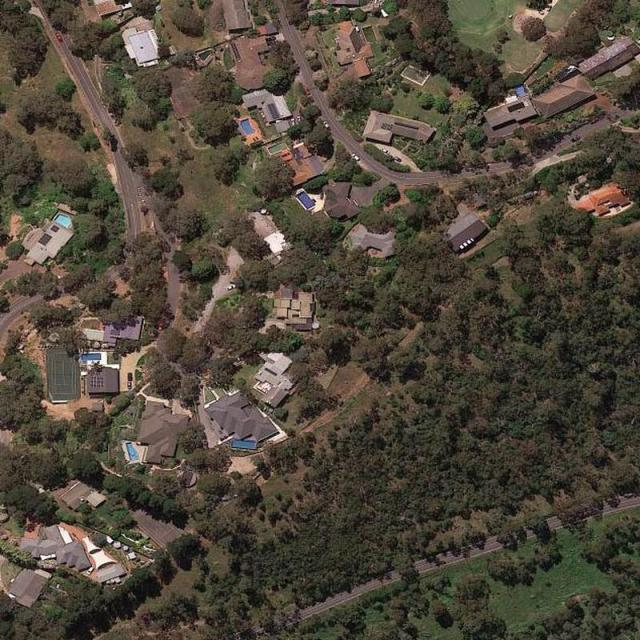vehicle: (54, 31, 62, 42), (322, 120, 330, 129), (351, 152, 359, 161), (86, 566, 94, 574), (380, 148, 390, 154), (226, 284, 235, 290), (127, 381, 133, 390), (571, 135, 579, 141), (394, 156, 400, 162), (290, 118, 294, 126), (129, 373, 133, 381), (296, 115, 300, 122)
